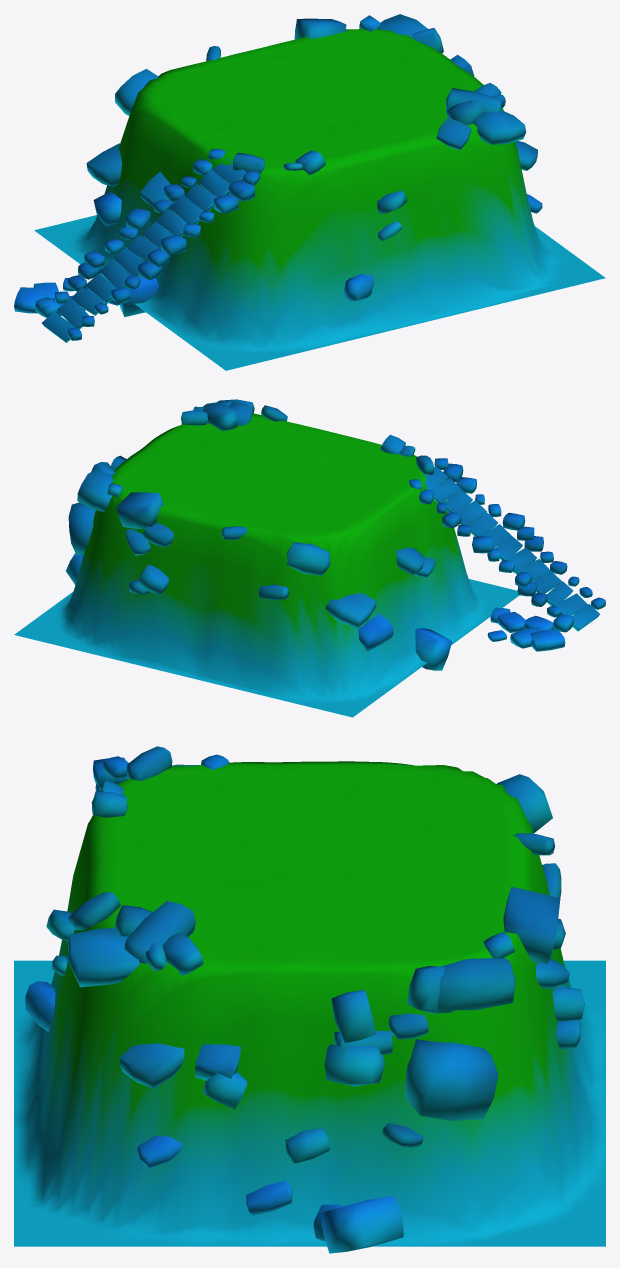
File: strand_rocks.glb
The picture shows the model from 3 angles, top to bottom: view 1: azimuth 30°, elevation 25°; view 2: azimuth 150°, elevation 25°; view 3: azimuth 270°, elevation 25°; orthographic projection. The views are drawn at different scales.
Parts seen in each view (by area): view 1: strand_rocks; view 2: strand_rocks; view 3: strand_rocks.
Boxes of the visible parts, box(x1,y1,x2,y2) form: strand_rocks: box(14, 14, 605, 370); strand_rocks: box(14, 399, 605, 717); strand_rocks: box(14, 746, 605, 1253).
Size of what is drawn, in the model's own units: 15.38 by 5.25 by 9.66.
